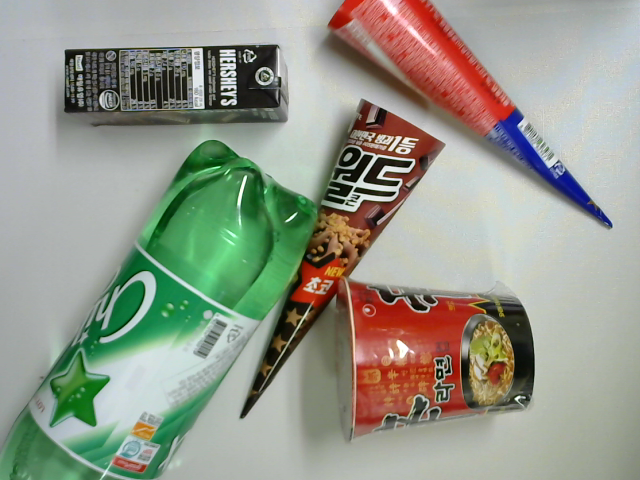Chilseong_Cider_1.5L: (1, 139, 318, 480)
Choco_E_Mong: (61, 43, 294, 129)
Sinramen_small: (328, 275, 538, 442)
World_Cone_Banila: (326, 1, 616, 231)
World_Cone_Choco: (239, 99, 446, 423)
